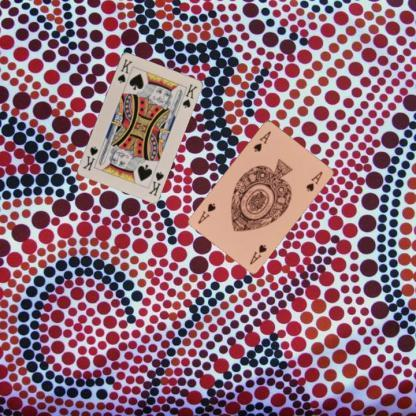As: (251, 128, 272, 153), (247, 241, 268, 266)
Ks: (146, 168, 166, 198), (115, 56, 134, 84)
